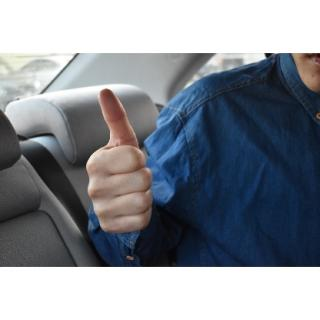ALIF: (86, 85, 156, 239)
